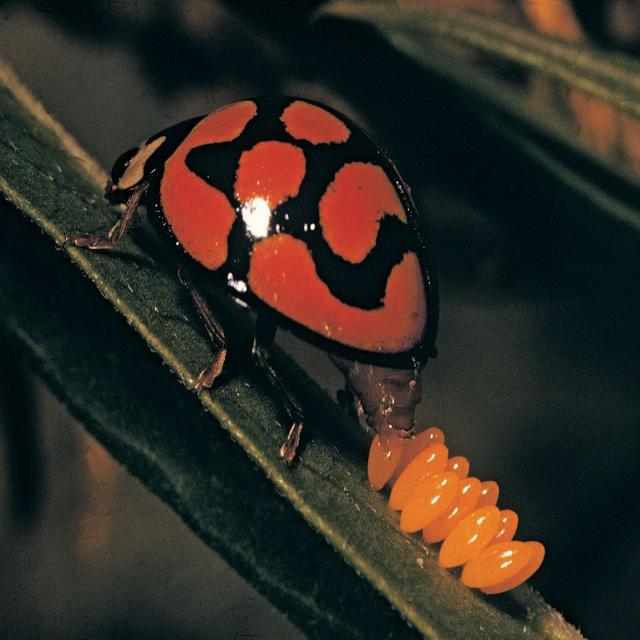ladybug: (70, 96, 438, 462)
